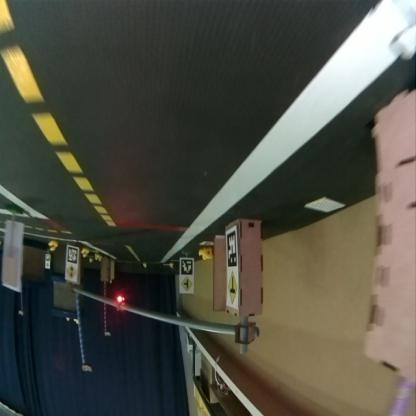Duckie: (80, 250, 88, 258), (50, 242, 57, 251)
Intersection sign: (228, 271, 236, 305), (180, 278, 192, 292)
QR code: (227, 230, 236, 268), (180, 260, 192, 276), (68, 248, 76, 264)
Signal sign: (66, 266, 76, 280)
Traffic light: (115, 297, 124, 311)
